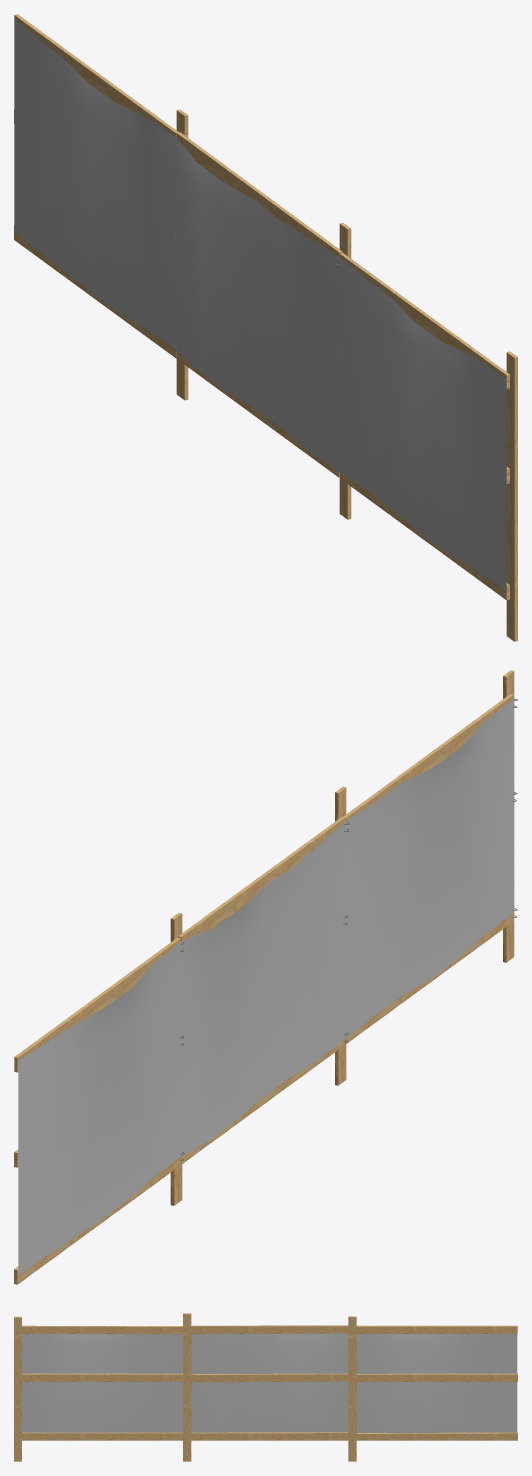
The model's file is SafetyNet_Plastic.FBX.
The picture shows the model from 3 angles, top to bottom: view 1: azimuth 30°, elevation 25°; view 2: azimuth 150°, elevation 25°; view 3: azimuth 270°, elevation 25°; orthographic projection. The views are drawn at different scales.
Visible parts, largest first — view 1: SafetyNet_Plastic; view 2: SafetyNet_Plastic; view 3: SafetyNet_Plastic.
Part boxes in pixels (<box>): SafetyNet_Plastic: <box>14,14,517,641</box>; SafetyNet_Plastic: <box>14,670,517,1284</box>; SafetyNet_Plastic: <box>14,1313,517,1461</box>.
Bounding box in the file's own units: 0.00996 × 0.2 × 0.6203.
